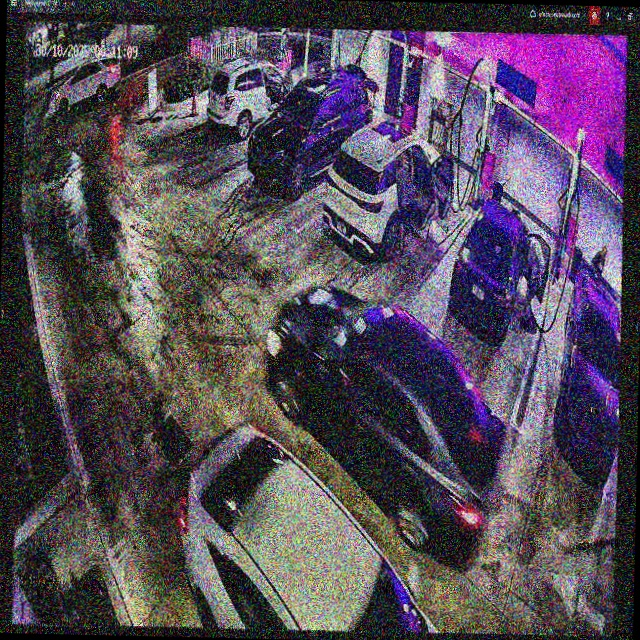Car: (260, 284, 508, 568), (173, 420, 442, 640), (328, 115, 451, 265), (251, 66, 372, 196), (448, 198, 545, 335)
